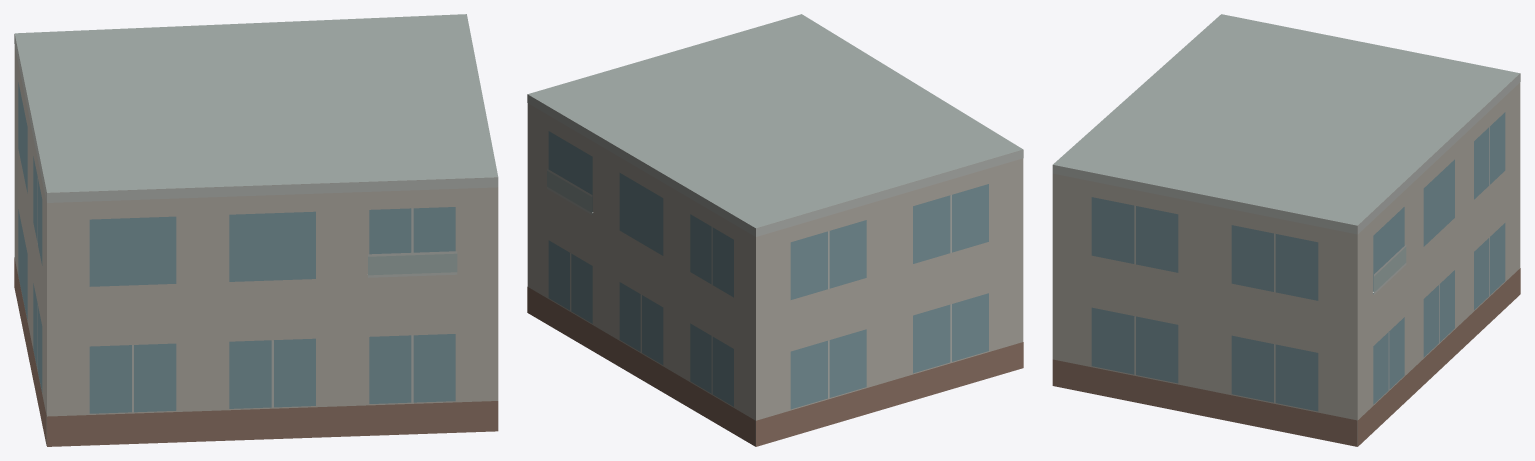
The model's file is survey-upis-32941509.glb.
3 renders of one model, left to right at view 1: azimuth 30°, elevation 25°; view 2: azimuth 150°, elevation 25°; view 3: azimuth 270°, elevation 25°, orthographic. The views are drawn at different scales.
Parts seen in each view (by area): view 1: survey-upis-32941509.tmp; view 2: survey-upis-32941509.tmp; view 3: survey-upis-32941509.tmp.
Part boxes in pixels (bbox=[...]): survey-upis-32941509.tmp: bbox=[14, 14, 498, 446]; survey-upis-32941509.tmp: bbox=[527, 14, 1023, 446]; survey-upis-32941509.tmp: bbox=[1052, 14, 1520, 446].
Size of the model in its own units: 12.53 by 6.1 by 11.7.
